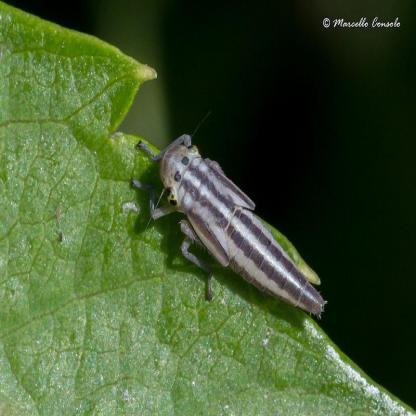Green-Leafhopper: (132, 124, 332, 330)
